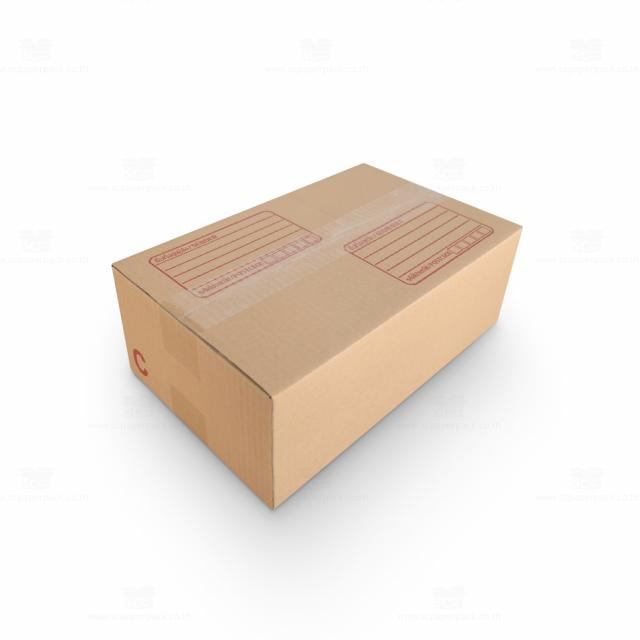box: (83, 141, 568, 539)
